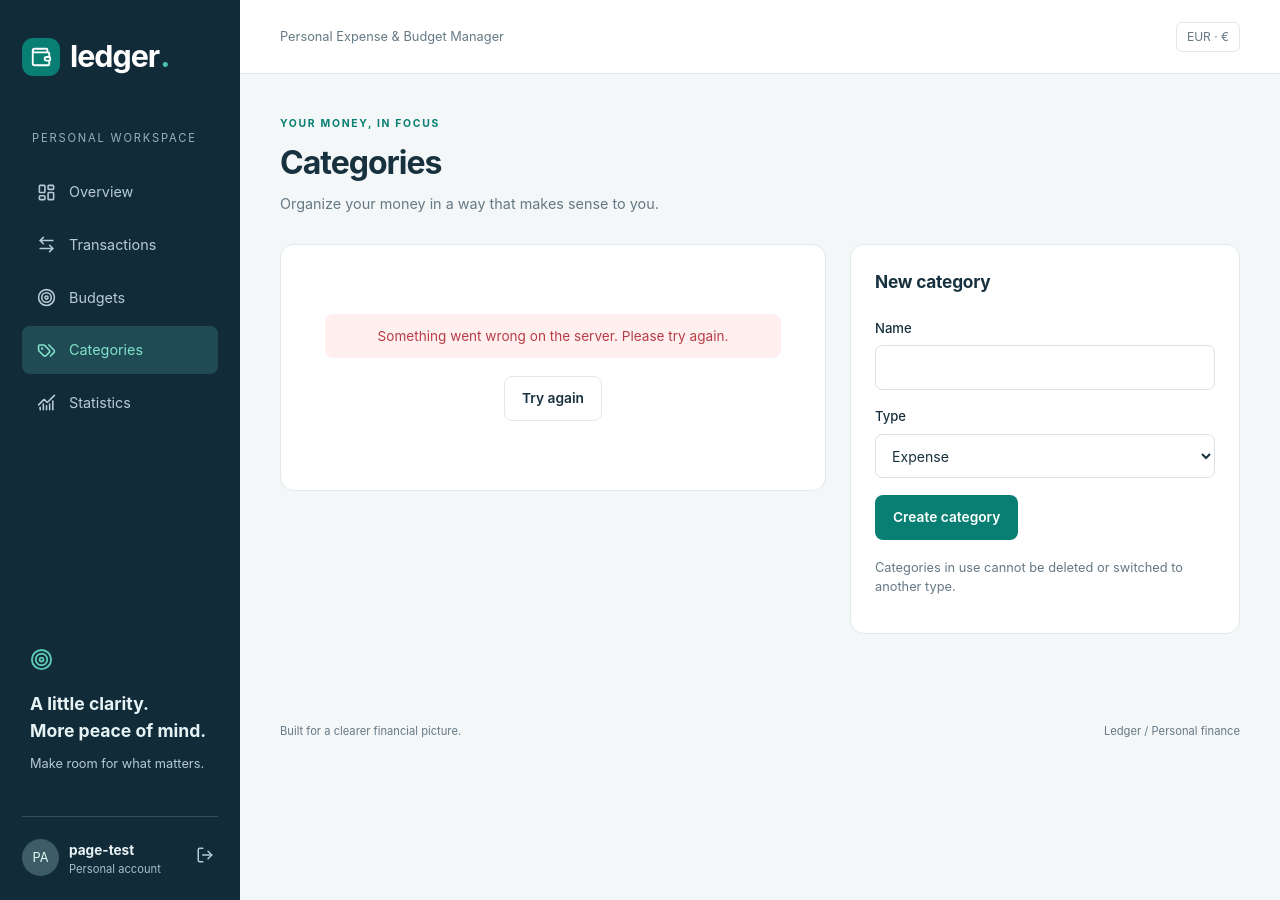
Test: categories page and API loading states › shows a generic server error and recovers when the user retries
Check: the message reads "Something went wrong on the server. Please try again.", box [378,328,728,344]
Check: the message does not show "internal exception", box [325,314,781,358]
Step 1. Click the button "Try again" → (553, 398), box [504,376,602,421]
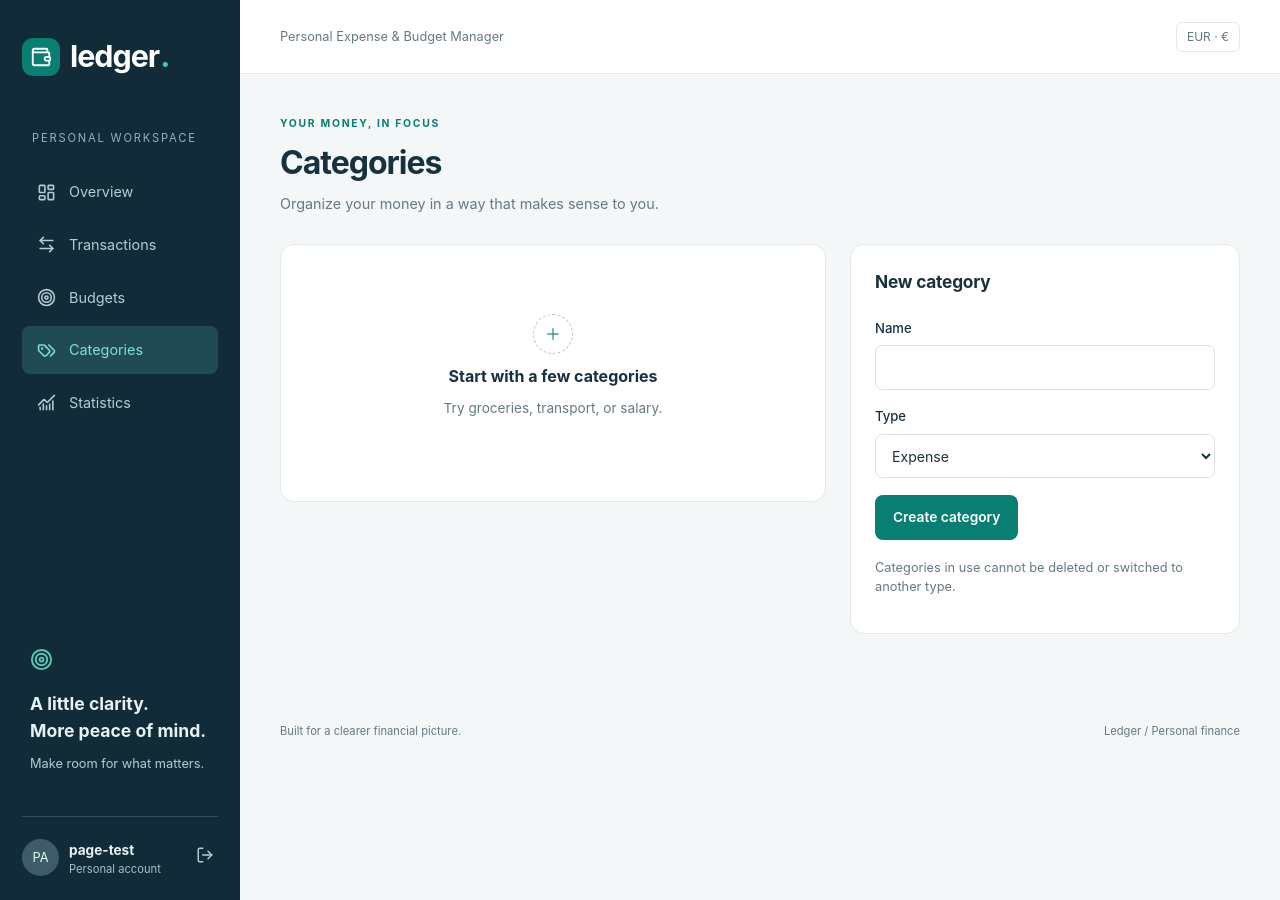
Check: the heading "Start with a few categories" is shown, box [448,366,658,386]
